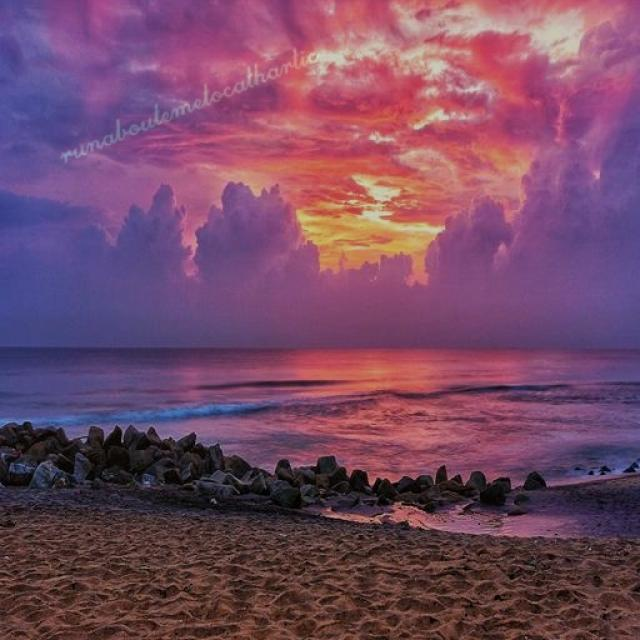watermark: (55, 36, 320, 168)
